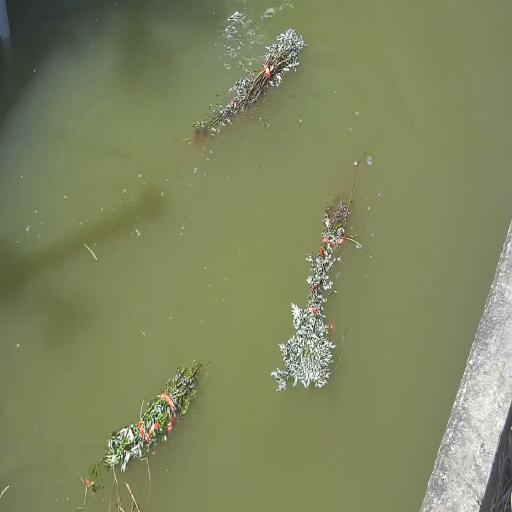twig: (271, 147, 369, 391), (90, 361, 200, 511), (192, 28, 306, 136)
